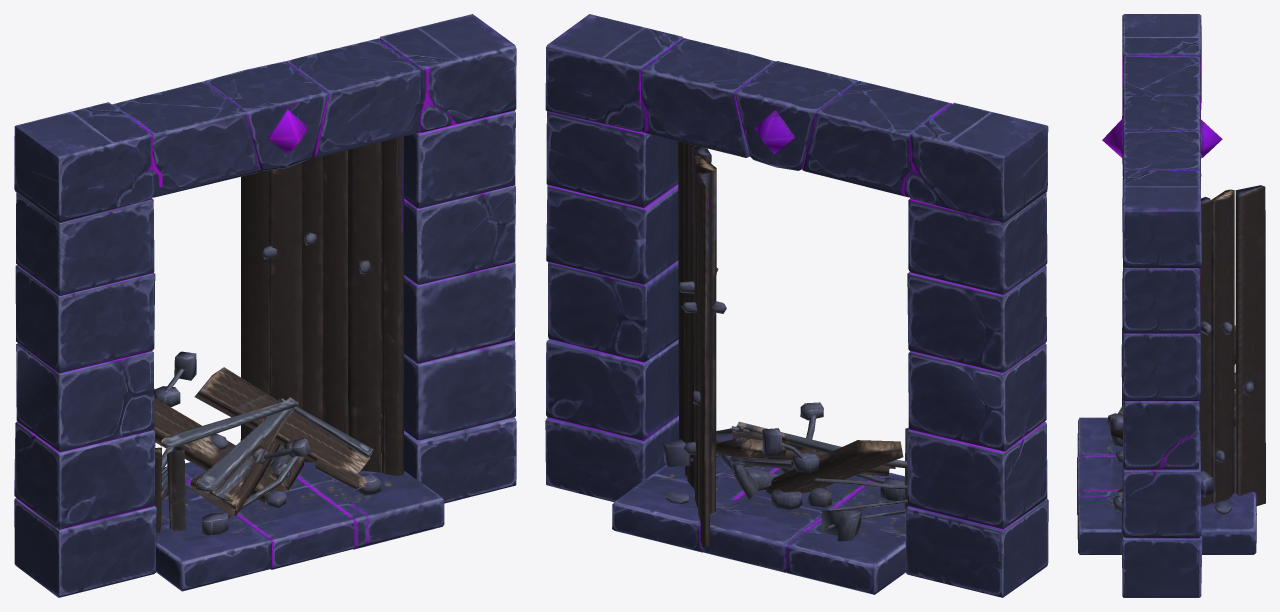
Rendered from door_square_destroyed.glb.
3 views of the same model, side by side, from view 1: azimuth 30°, elevation 25°; view 2: azimuth 150°, elevation 25°; view 3: azimuth 270°, elevation 25° (orthographic). The views are drawn at different scales.
Bounding box in the file's own units: 1 × 0.9238 × 0.4062.
Materials: 1 (1 with a texture image).
